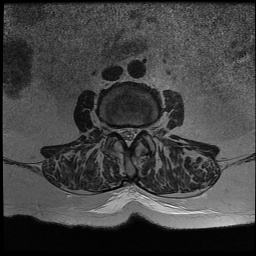CCS_normal: (124, 120, 132, 152)
LFS_severe_stenosis: (139, 117, 146, 139)
LLS_stenosis: (132, 119, 139, 144)
RFS_severe_stenosis: (110, 116, 117, 140)
RLS_normal: (116, 119, 124, 142)
